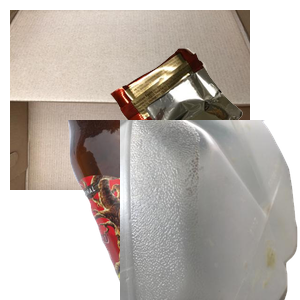cardboard: (10, 10, 250, 190)
glass: (65, 120, 300, 300)
plastic: (120, 120, 300, 300)
trash: (107, 46, 300, 198)
